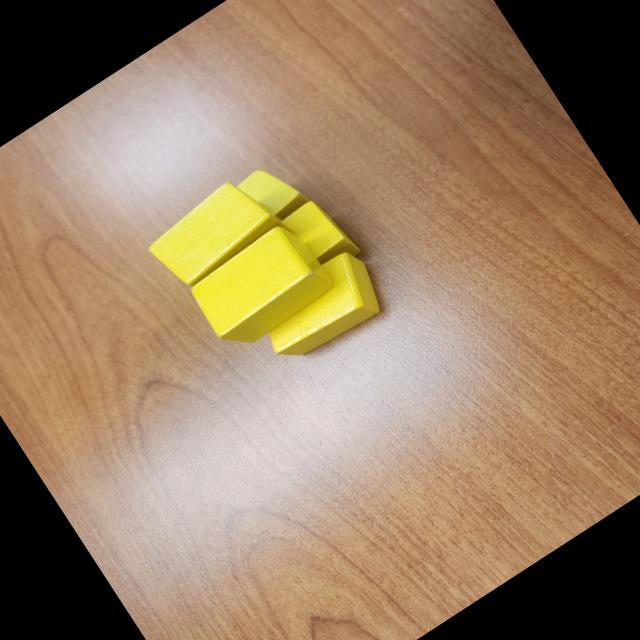yellow: (185, 217, 338, 358), (140, 168, 286, 296), (248, 244, 392, 371), (275, 189, 363, 282), (232, 152, 312, 232)
